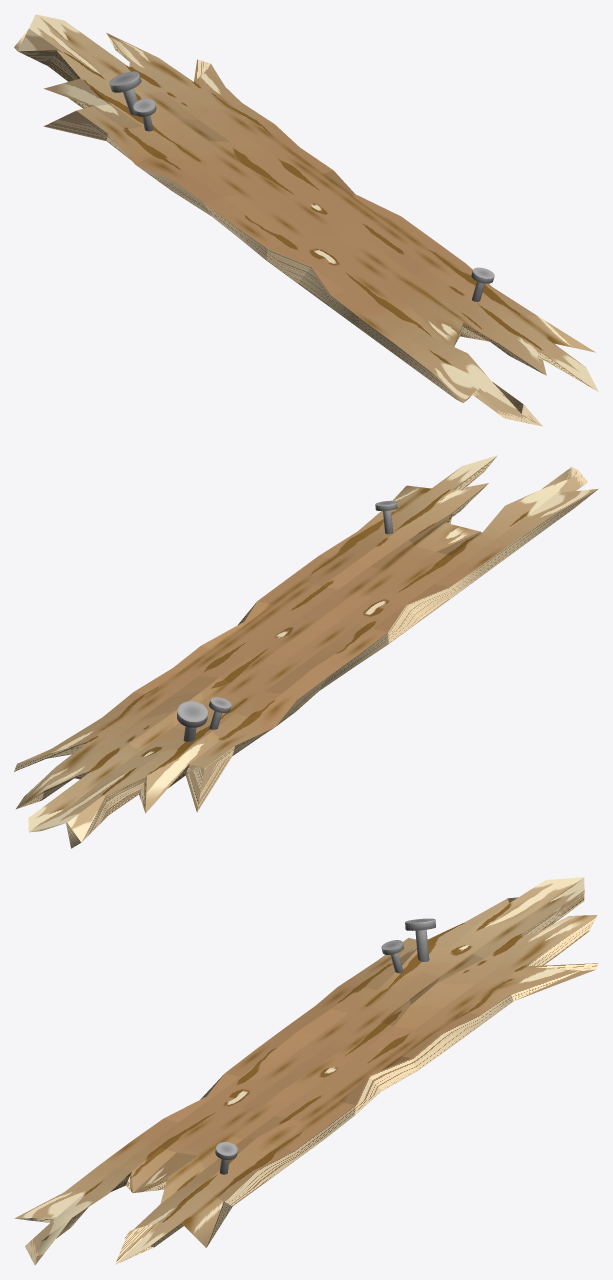
The model's file is WoodenPlank.fbx.
3 renders of one model, top to bottom at view 1: azimuth 30°, elevation 25°; view 2: azimuth 150°, elevation 25°; view 3: azimuth 330°, elevation 25°, orthographic. The views are drawn at different scales.
Parts seen in each view (by area): view 1: Cube, Cylinder.003; view 2: Cube, Cylinder.003; view 3: Cube, Cylinder.003.
Boxes of the visible parts, x1=… form: Cube: x1=14, y1=14, x2=598, y2=426; Cylinder.003: x1=109, y1=71, x2=494, y2=301; Cube: x1=14, y1=455, x2=598, y2=848; Cylinder.003: x1=177, y1=500, x2=397, y2=741; Cube: x1=14, y1=877, x2=598, y2=1265; Cylinder.003: x1=215, y1=918, x2=435, y2=1174.
Size of the model in its own units: 2.63 by 13.82 by 0.998.
Materials: 2 (2 with a texture image).
